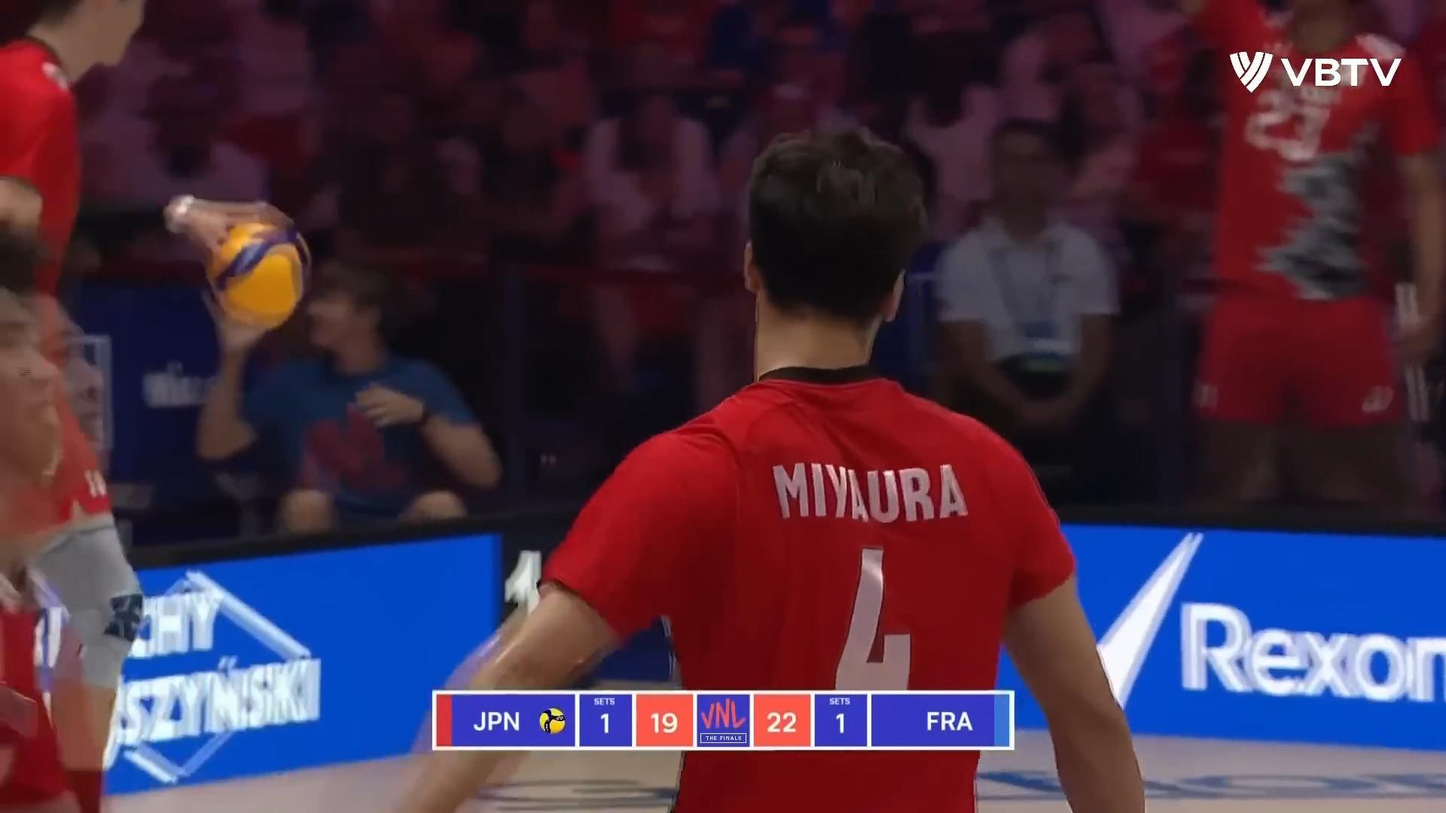ball: (201, 219, 313, 334)
